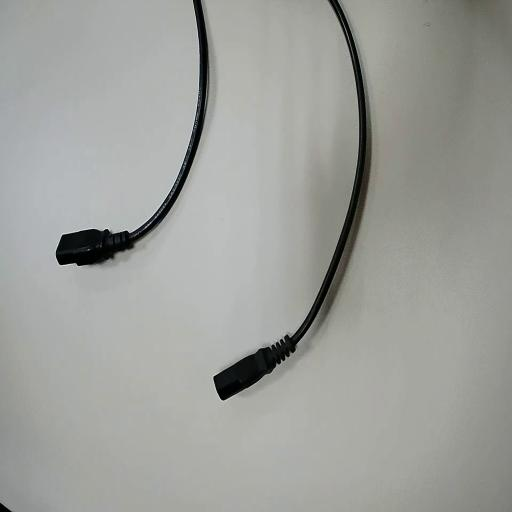wire: (215, 0, 367, 398), (57, 0, 207, 264)
